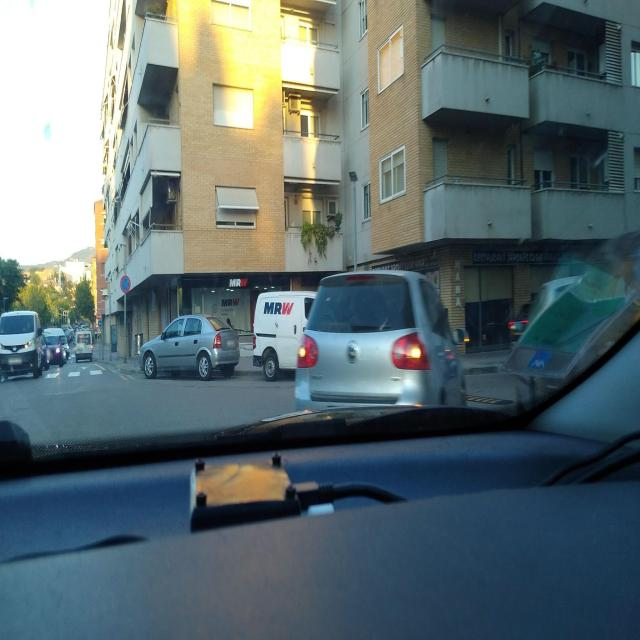forb_stopping: (120, 275, 131, 294)
